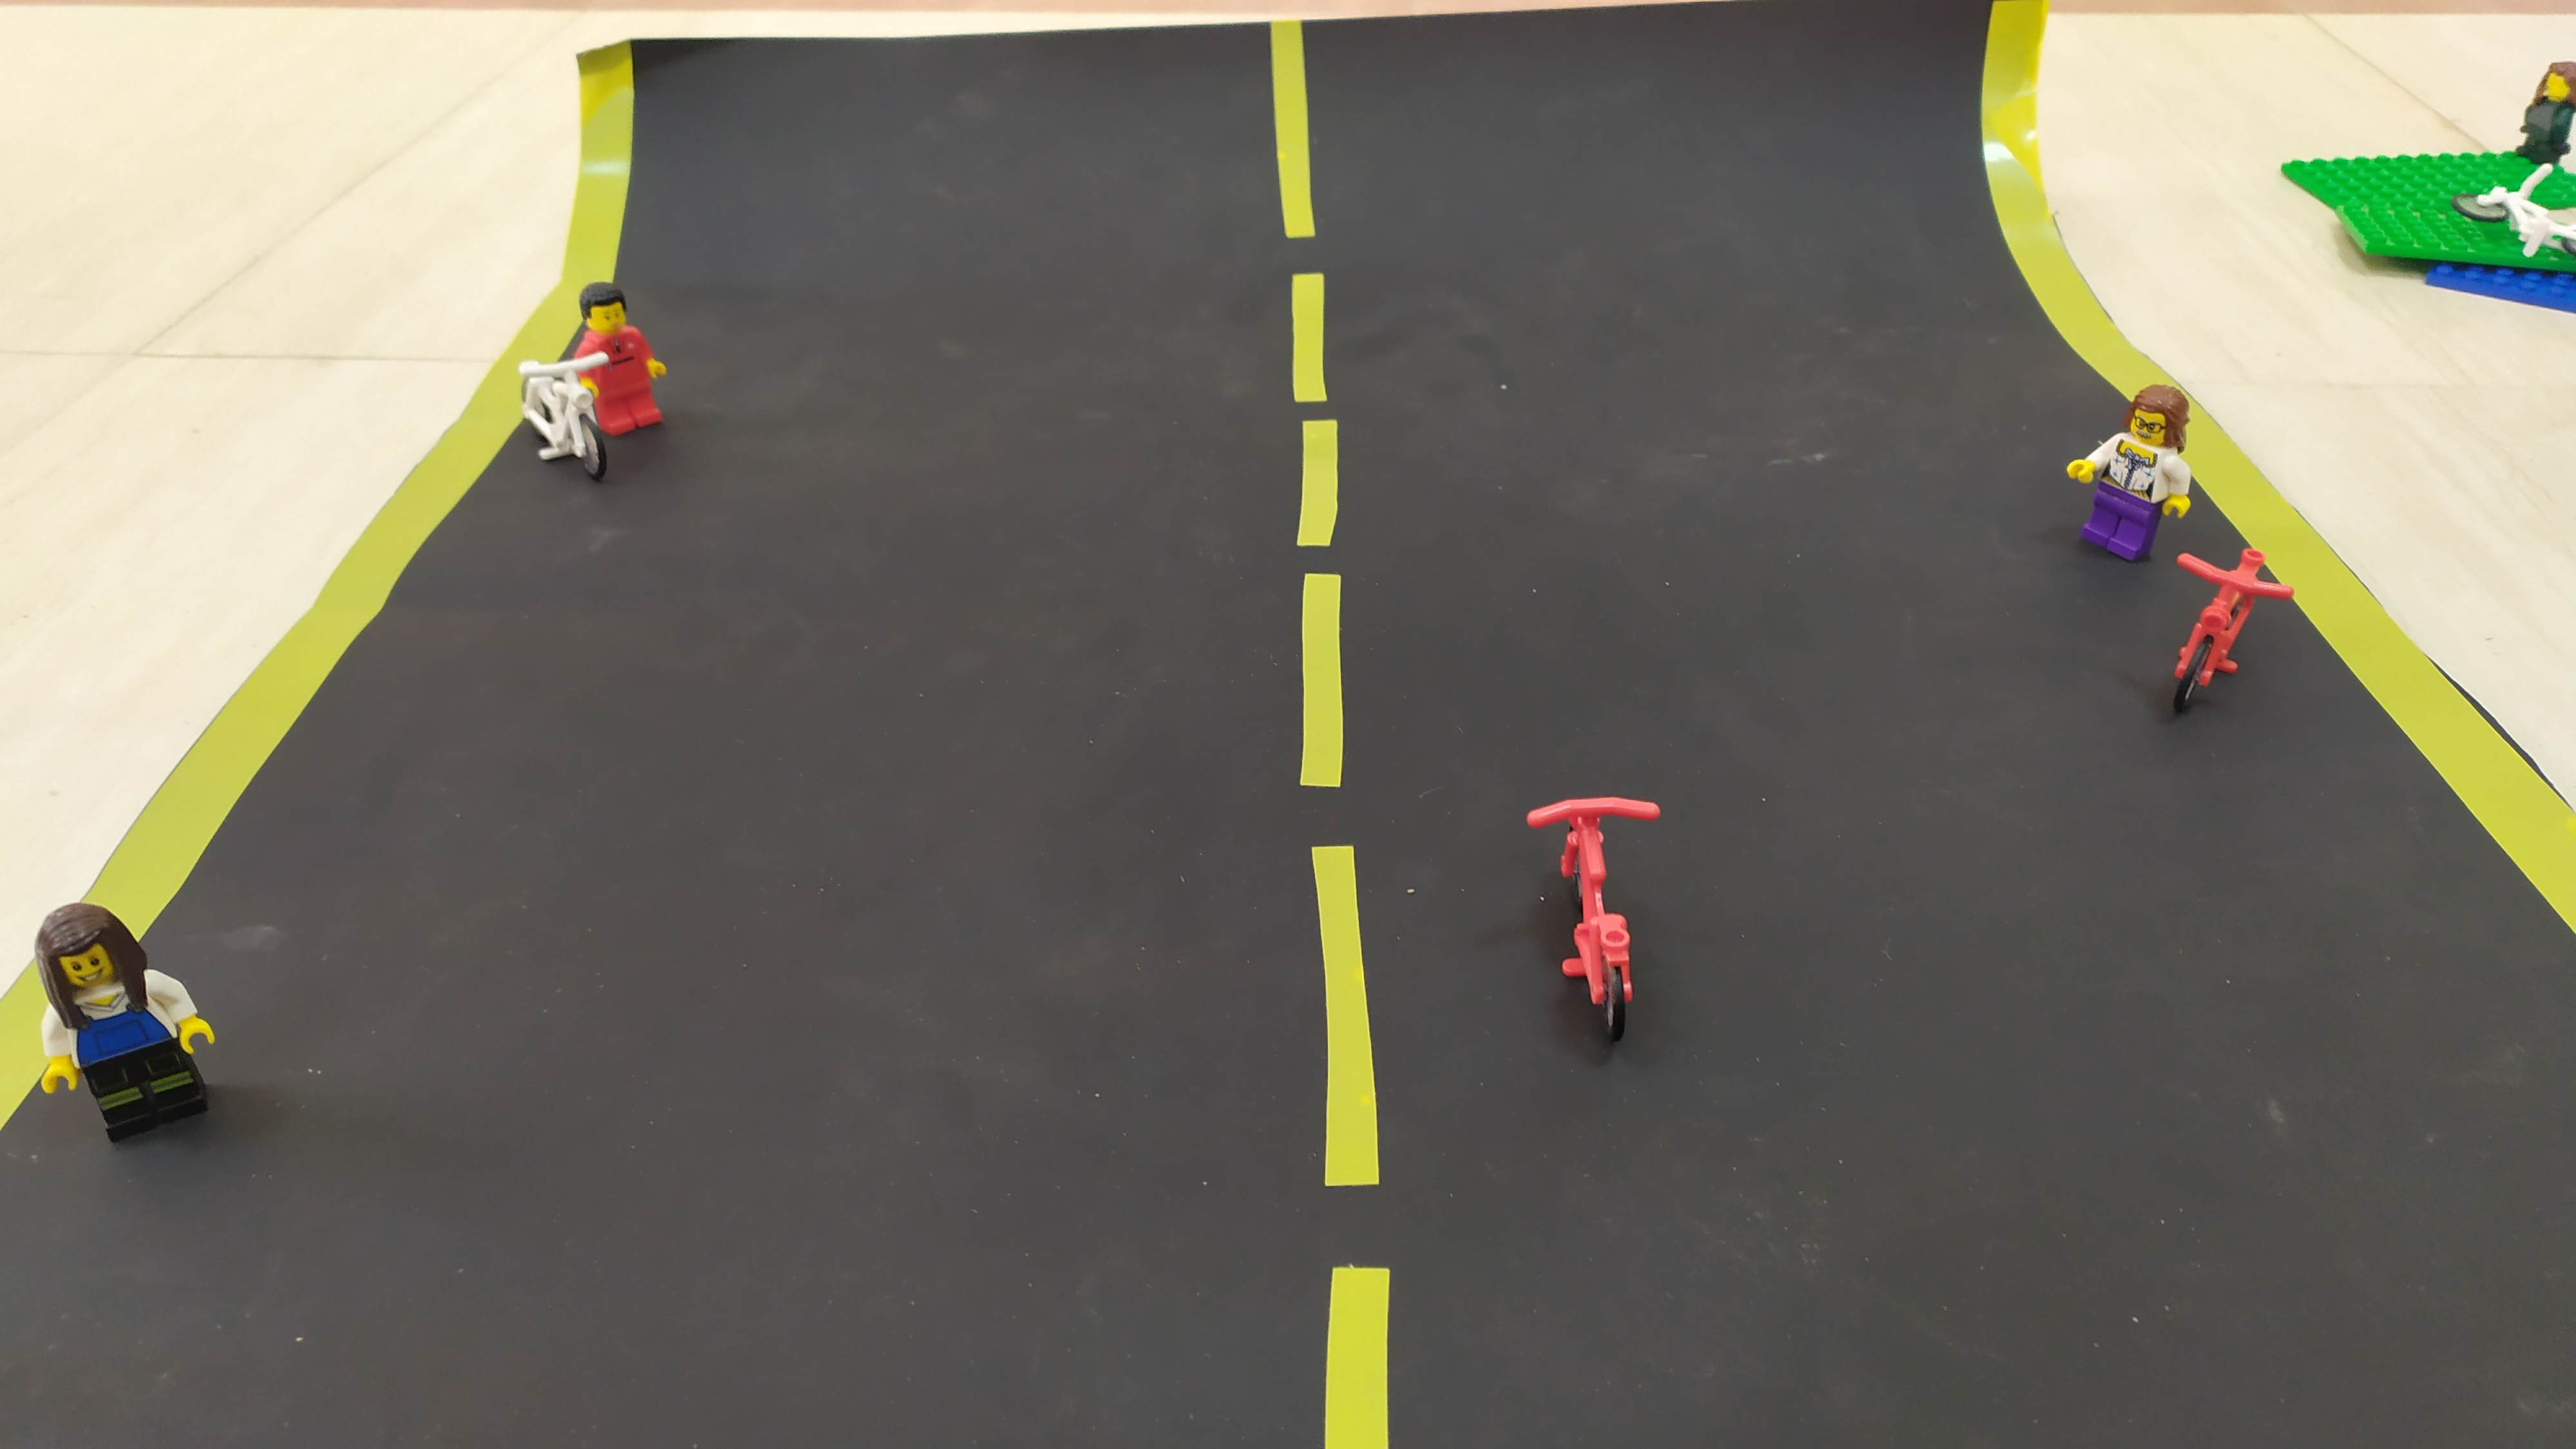Person: (48, 892, 209, 1150), (2045, 390, 2206, 576), (551, 274, 647, 486)
